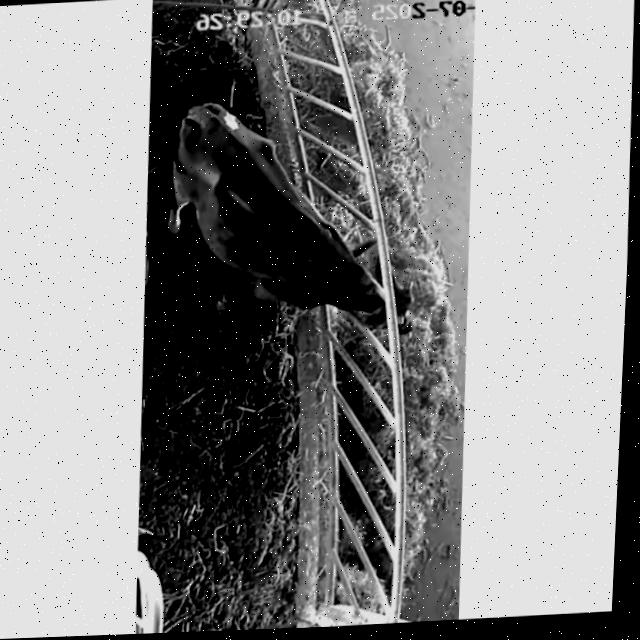eat: (267, 192, 455, 340)
